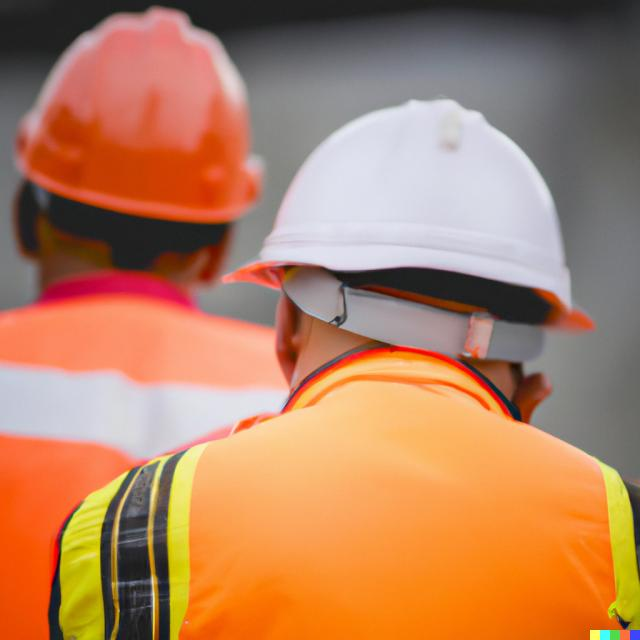Reflective-Jacket: (11, 338, 640, 640)
Safety-Helmet: (227, 96, 597, 324), (7, 6, 262, 228)
